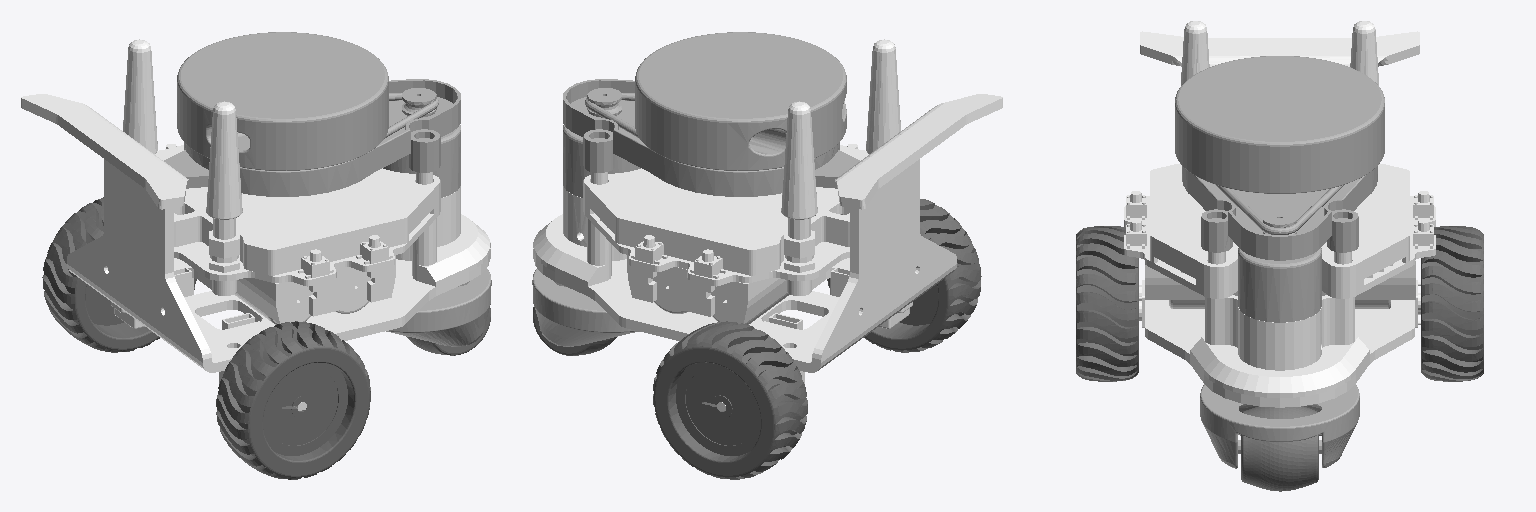
The robot description file, URDF, robot "mini_description":
<?xml version="1.0" encoding="utf-8"?>
<!-- This URDF was automatically created by SolidWorks to URDF Exporter! Originally created by [author] ([email redacted]) 
     Commit Version: 1.5.1-0-g916b5db  Build Version: 1.5.7152.31018
     For more information, please see http://wiki.ros.org/sw_urdf_exporter -->
<robot
  name="mini_description">
  <link
    name="base_link">
    <inertial>
      <origin
        xyz="0.024924 2.9717E-05 0.025056"
        rpy="0 0 0" />
      <mass
        value="0.15009" />
      <inertia
        ixx="6.9557E-05"
        ixy="-1.9995E-08"
        ixz="1.4394E-05"
        iyy="7.3058E-05"
        iyz="4.6339E-09"
        izz="0.00011041" />
    </inertial>
    <visual>
      <origin
        xyz="0 0 0"
        rpy="0 0 0" />
      <geometry>
        <mesh
          filename="package://mini_description/meshes/base_link.STL" />
      </geometry>
      <material
        name="">
        <color
          rgba="1 1 1 1" />
      </material>
    </visual>
    <collision>
      <origin
        xyz="0 0 0"
        rpy="0 0 0" />
      <geometry>
        <mesh
          filename="package://mini_description/meshes/base_link.STL" />
      </geometry>
    </collision>
  </link>
  <link
    name="left_wheel">
    <inertial>
      <origin
        xyz="-7.23251309203005E-06 0.00462185303459747 2.31999376265613E-07"
        rpy="0 0 0" />
      <mass
        value="0.0140889906679787" />
      <inertia
        ixx="2.40387272862146E-06"
        ixy="2.4879363665723E-11"
        ixz="1.54491868199165E-11"
        iyy="4.21595957294108E-06"
        iyz="-3.53103166522551E-12"
        izz="2.40340449711435E-06" />
    </inertial>
    <visual>
      <origin
        xyz="0 0 0"
        rpy="0 0 0" />
      <geometry>
        <mesh
          filename="package://mini_description/meshes/left_wheel.STL" />
      </geometry>
      <material
        name="">
        <color
          rgba="0.501960784313725 0.501960784313725 0.501960784313725 1" />
      </material>
    </visual>
    <collision>
      <origin
        xyz="0 0 0"
        rpy="0 0 0" />
      <geometry>
        <mesh
          filename="package://mini_description/meshes/left_wheel.STL" />
      </geometry>
    </collision>
  </link>
  <joint
    name="left_wheel_joint"
    type="continuous">
    <origin
      xyz="0 0.04545 0"
      rpy="0 0 0" />
    <parent
      link="base_link" />
    <child
      link="left_wheel" />
    <axis
      xyz="0 1 0" />
  </joint>
  <link
    name="right_wheel">
    <inertial>
      <origin
        xyz="6.4487E-06 -0.0046219 -9.1373E-07"
        rpy="0 0 0" />
      <mass
        value="0.014089" />
      <inertia
        ixx="2.4038E-06"
        ixy="4.2889E-11"
        ixz="-1.8677E-10"
        iyy="4.216E-06"
        iyz="-2.0598E-11"
        izz="2.4035E-06" />
    </inertial>
    <visual>
      <origin
        xyz="0 0 0"
        rpy="0 0 0" />
      <geometry>
        <mesh
          filename="package://mini_description/meshes/right_wheel.STL" />
      </geometry>
      <material
        name="">
        <color
          rgba="0.50196 0.50196 0.50196 1" />
      </material>
    </visual>
    <collision>
      <origin
        xyz="0 0 0"
        rpy="0 0 0" />
      <geometry>
        <mesh
          filename="package://mini_description/meshes/right_wheel.STL" />
      </geometry>
    </collision>
  </link>
  <joint
    name="right_wheel_joint"
    type="continuous">
    <origin
      xyz="0 -0.04545 0"
      rpy="0 0 0" />
    <parent
      link="base_link" />
    <child
      link="right_wheel" />
    <axis
      xyz="0 1 0" />
  </joint>
  <link
    name="caster">
    <inertial>
      <origin
        xyz="-0.002448 1.1256E-06 -0.014939"
        rpy="0 0 0" />
      <mass
        value="0.014141" />
      <inertia
        ixx="2.5914E-06"
        ixy="7.6611E-09"
        ixz="5.9305E-08"
        iyy="1.8204E-06"
        iyz="3.0296E-10"
        izz="3.4099E-06" />
    </inertial>
    <visual>
      <origin
        xyz="0 0 0"
        rpy="0 0 0" />
      <geometry>
        <mesh
          filename="package://mini_description/meshes/caster.STL" />
      </geometry>
      <material
        name="">
        <color
          rgba="0.75294 0.75294 0.75294 1" />
      </material>
    </visual>
    <collision>
      <origin
        xyz="0 0 0"
        rpy="0 0 0" />
      <geometry>
        <mesh
          filename="package://mini_description/meshes/caster.STL" />
      </geometry>
    </collision>
  </link>
  <joint
    name="caster_joint"
    type="continuous">
    <origin
      xyz="0.0669 0 0.0132"
      rpy="0 0 0" />
    <parent
      link="base_link" />
    <child
      link="caster" />
    <axis
      xyz="0 0 1" />
  </joint>
  <link
    name="ball">
    <inertial>
      <origin
        xyz="-6.3856E-08 -9.9546E-06 -2.5161E-08"
        rpy="0 0 0" />
      <mass
        value="0.0091741" />
      <inertia
        ixx="6.4979E-07"
        ixy="3.8251E-13"
        ixz="-2.0166E-11"
        iyy="6.5982E-07"
        iyz="-1.1949E-12"
        izz="6.4986E-07" />
    </inertial>
    <visual>
      <origin
        xyz="0 0 0"
        rpy="0 0 0" />
      <geometry>
        <mesh
          filename="package://mini_description/meshes/ball.STL" />
      </geometry>
      <material
        name="">
        <color
          rgba="0.55686 0.55686 0.55686 1" />
      </material>
    </visual>
    <collision>
      <origin
        xyz="0 0 0"
        rpy="0 0 0" />
      <geometry>
        <mesh
          filename="package://mini_description/meshes/ball.STL" />
      </geometry>
    </collision>
  </link>
  <joint
    name="ball_joint"
    type="continuous">
    <origin
      xyz="0.01 7.0418E-05 -0.0223"
      rpy="0 0 0" />
    <parent
      link="caster" />
    <child
      link="ball" />
    <axis
      xyz="0 1 0" />
  </joint>
  <link
    name="lidar">
    <inertial>
      <origin
        xyz="0.0048846 0.00020348 -0.0067816"
        rpy="0 0 0" />
      <mass
        value="0.073208" />
      <inertia
        ixx="2.1385E-05"
        ixy="6.164E-08"
        ixz="7.7324E-06"
        iyy="4.15E-05"
        iyz="4.0193E-09"
        izz="4.7713E-05" />
    </inertial>
    <visual>
      <origin
        xyz="0 0 0"
        rpy="0 0 0" />
      <geometry>
        <mesh
          filename="package://mini_description/meshes/lidar.STL" />
      </geometry>
      <material
        name="">
        <color
          rgba="0.75294 0.75294 0.75294 1" />
      </material>
    </visual>
    <collision>
      <origin
        xyz="0 0 0"
        rpy="0 0 0" />
      <geometry>
        <mesh
          filename="package://mini_description/meshes/lidar.STL" />
      </geometry>
    </collision>
  </link>
  <joint
    name="lidar_joint"
    type="fixed">
    <origin
      xyz="0.026633 -0.00020608 0.067613"
      rpy="0 0 0" />
    <parent
      link="base_link" />
    <child
      link="lidar" />
    <axis
      xyz="0 0 0" />
  </joint>
</robot>

--- What the picture shows (computed from the rendered views, not written in the file) ---
3 views of the same robot in one strip: view 1: azimuth 30°, elevation 25°; view 2: azimuth 150°, elevation 25°; view 3: azimuth 270°, elevation 25° (orthographic).
Model mini_description with 6 links and 5 joints (4 continuous, 1 fixed), rooted at base_link, posed every joint at zero.
Visible links, largest first — view 1: base_link, lidar, right_wheel, left_wheel, caster, ball; view 2: base_link, lidar, left_wheel, right_wheel, caster, ball; view 3: base_link, lidar, right_wheel, left_wheel, caster, ball.
Link boxes in pixels (<box>): base_link: <box>21,39,490,410</box>; lidar: <box>164,32,460,197</box>; right_wheel: <box>216,321,370,479</box>; left_wheel: <box>42,197,196,352</box>; caster: <box>386,269,491,346</box>; ball: <box>406,281,490,355</box>; base_link: <box>533,39,1002,410</box>; lidar: <box>563,32,859,197</box>; left_wheel: <box>653,321,807,479</box>; right_wheel: <box>827,199,981,352</box>; caster: <box>532,269,638,346</box>; ball: <box>533,281,616,355</box>; base_link: <box>1124,21,1435,407</box>; lidar: <box>1175,56,1384,322</box>; right_wheel: <box>1076,226,1138,381</box>; left_wheel: <box>1421,226,1483,381</box>; caster: <box>1200,384,1359,468</box>; ball: <box>1241,406,1318,491</box>.
Bounding box of the posed robot: 0.128 × 0.1164 × 0.1067 m (x, y, z).
Meshes: 6 distinct files referenced, 6 mesh visuals loaded (6 binary STL).